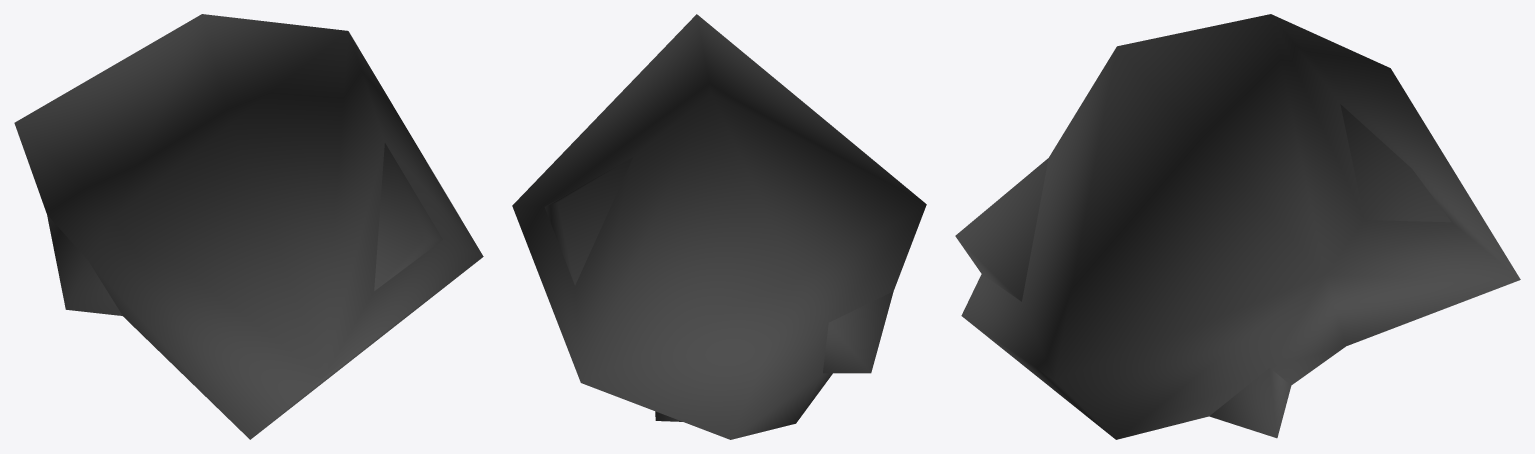
File: asteroid.glb
3 views of the same model, side by side, from view 1: azimuth 30°, elevation 25°; view 2: azimuth 150°, elevation 25°; view 3: azimuth 270°, elevation 25° (orthographic). The views are drawn at different scales.
Parts seen in each view (by area): view 1: group_19; view 2: group_19; view 3: group_19.
Boxes of the visible parts, x1,y1,x2,y2 form: group_19: (14, 14, 483, 439); group_19: (512, 14, 926, 439); group_19: (955, 14, 1520, 439).
Size of the model in its own units: 3244 by 3503 by 3992.
2 materials, 2 textured.
